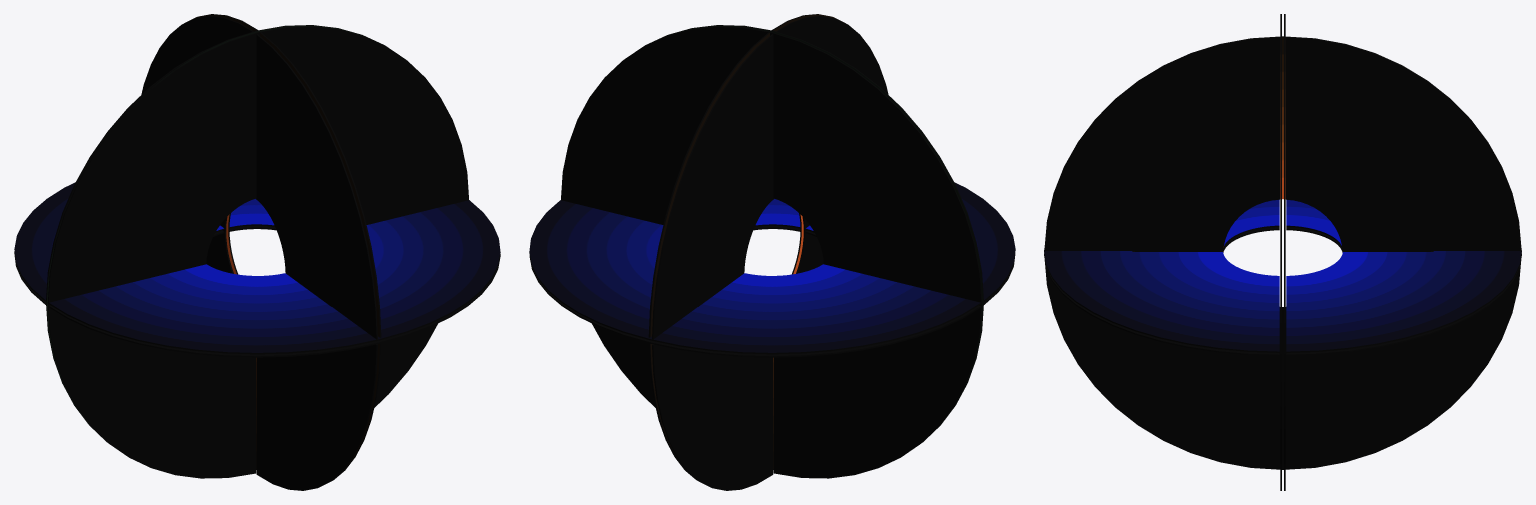
The model's file is SVD6_2.glb.
3 views of the same model, side by side, from view 1: azimuth 30°, elevation 25°; view 2: azimuth 150°, elevation 25°; view 3: azimuth 270°, elevation 25° (orthographic).
Visible parts, largest first — view 1: METACRILATO32, METACRILATO12, METACRILATO22, METACRILATO21, METACRILATO11, METACRILATO23, METACRILATO31; view 2: METACRILATO31, METACRILATO12, METACRILATO21, METACRILATO22, METACRILATO11, METACRILATO24, METACRILATO32; view 3: METACRILATO11, METACRILATO21, METACRILATO22, METACRILATO12, METACRILATO23, METACRILATO24, METACRILATO31, METACRILATO32.
Boxes of the visible parts, x1,y1,x2,y2 form: METACRILATO32: [47, 26, 468, 478]; METACRILATO12: [141, 16, 377, 490]; METACRILATO22: [48, 200, 500, 354]; METACRILATO21: [14, 182, 274, 301]; METACRILATO11: [185, 14, 381, 480]; METACRILATO23: [49, 254, 500, 357]; METACRILATO31: [46, 25, 386, 441]; METACRILATO31: [561, 26, 982, 478]; METACRILATO12: [652, 16, 888, 490]; METACRILATO21: [529, 200, 980, 354]; METACRILATO22: [755, 182, 1015, 301]; METACRILATO11: [648, 14, 845, 480]; METACRILATO24: [529, 255, 980, 357]; METACRILATO32: [644, 25, 983, 442]; METACRILATO11: [1044, 37, 1521, 469]; METACRILATO21: [1286, 199, 1521, 352]; METACRILATO22: [1044, 199, 1279, 352]; METACRILATO12: [1054, 36, 1521, 276]; METACRILATO23: [1044, 227, 1279, 356]; METACRILATO24: [1286, 227, 1521, 355]; METACRILATO31: [1284, 14, 1285, 490]; METACRILATO32: [1280, 14, 1281, 490].
Size of the model in its own units: 0.9602 by 0.9625 by 0.9613.
Materials: 5 (5 with a texture image).
